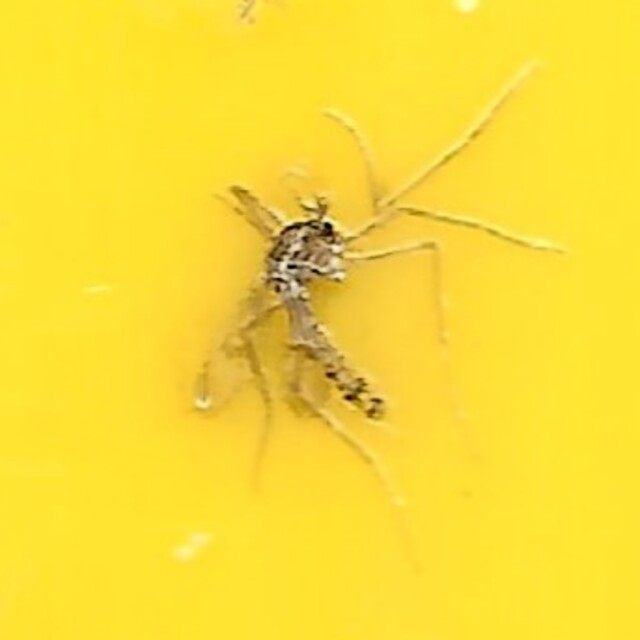Nematocera: (187, 179, 453, 461)
